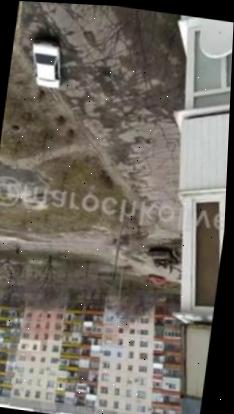car: (26, 36, 66, 88)
